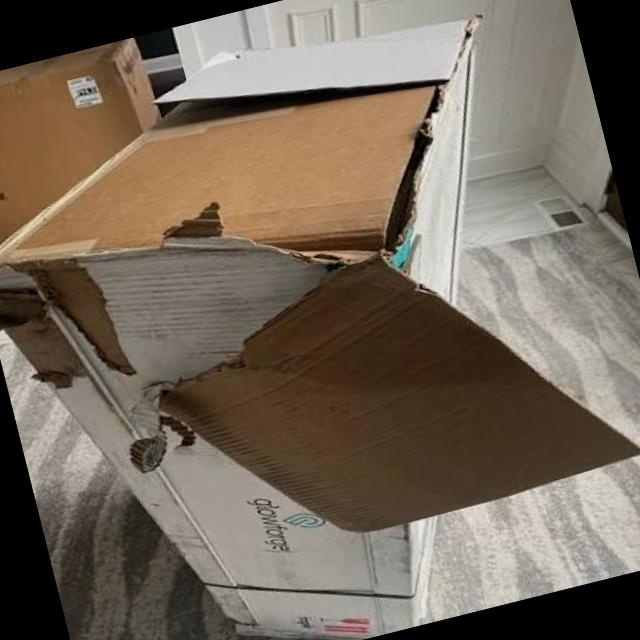package_damage: (0, 8, 485, 464)
